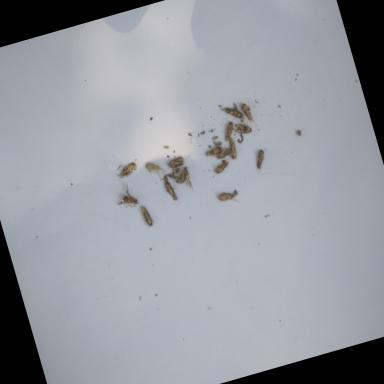pbw: (172, 162, 198, 197), (217, 100, 245, 127), (145, 158, 170, 185), (214, 186, 240, 208), (210, 154, 236, 176), (240, 101, 258, 130), (253, 148, 271, 175), (138, 204, 156, 230), (116, 162, 140, 180), (221, 121, 239, 142), (234, 120, 254, 138), (164, 180, 178, 204), (226, 138, 240, 160), (214, 144, 232, 161), (204, 146, 224, 160), (167, 155, 185, 169)
